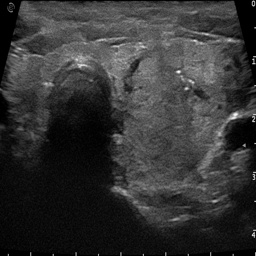mass: (117, 51, 252, 199)
